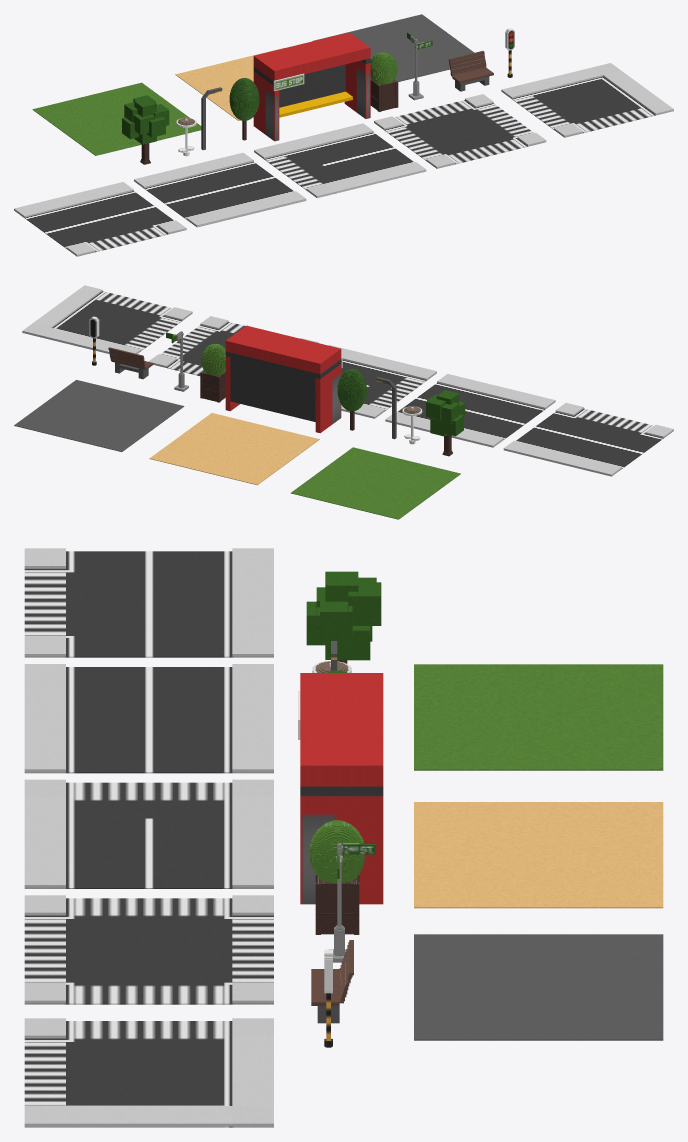
Rendered from Environment_01.fbx.
3 views of the same model, one above another, from view 1: azimuth 30°, elevation 25°; view 2: azimuth 150°, elevation 25°; view 3: azimuth 270°, elevation 25° (orthographic). The views are drawn at different scales.
Parts seen in each view (by area): view 1: Bus_Stop, Road_05, Road_01, Road_02, Road_03, Road_04, Grass, Ground_02, Ground_01, Tree_02, Bush, Chair (+2 smaller); view 2: Bus_Stop, Road_01, Grass, Ground_01, Ground_02, Road_05, Road_02, Road_03, Road_04, Tree_02, Bush, Tree_01 (+2 smaller); view 3: Road_01, Road_04, Road_05, Road_02, Road_03, Grass, Ground_02, Ground_01, Bus_Stop, Tree_02, Bush, Chair (+1 smaller).
Part boxes in pixels (x1,y1,x2,y2): Bus_Stop: (253,32,370,141); Road_05: (501,63,673,137); Road_01: (14,182,186,256); Road_02: (134,152,306,227); Road_03: (254,123,426,197); Road_04: (374,94,546,168); Grass: (32,82,201,155); Ground_02: (313,14,474,81); Ground_01: (175,47,284,120); Tree_02: (122,95,169,164); Bush: (370,52,398,111); Chair: (448,51,493,91); Bus_Stop: (225,325,342,433); Road_01: (503,402,673,476); Grass: (291,447,460,519); Ground_01: (149,413,319,485); Ground_02: (14,380,184,451); Road_05: (22,285,192,353); Road_02: (385,374,555,447); Road_03: (328,345,436,418); Road_04: (148,316,318,375); Tree_02: (426,390,465,456); Bush: (200,343,225,402); Tree_01: (337,369,366,430); Road_01: (24,548,273,657); Road_04: (24,895,273,1004); Road_05: (24,1018,273,1127); Road_02: (24,664,273,773); Road_03: (24,779,273,888); Grass: (414,664,663,770); Ground_02: (414,934,663,1040); Ground_01: (414,802,663,908); Bus_Stop: (298,673,383,904); Tree_02: (306,571,381,663); Bush: (310,820,364,934); Chair: (311,940,353,1023).
Bounding box in the file's own units: 1244 × 140 × 584.
